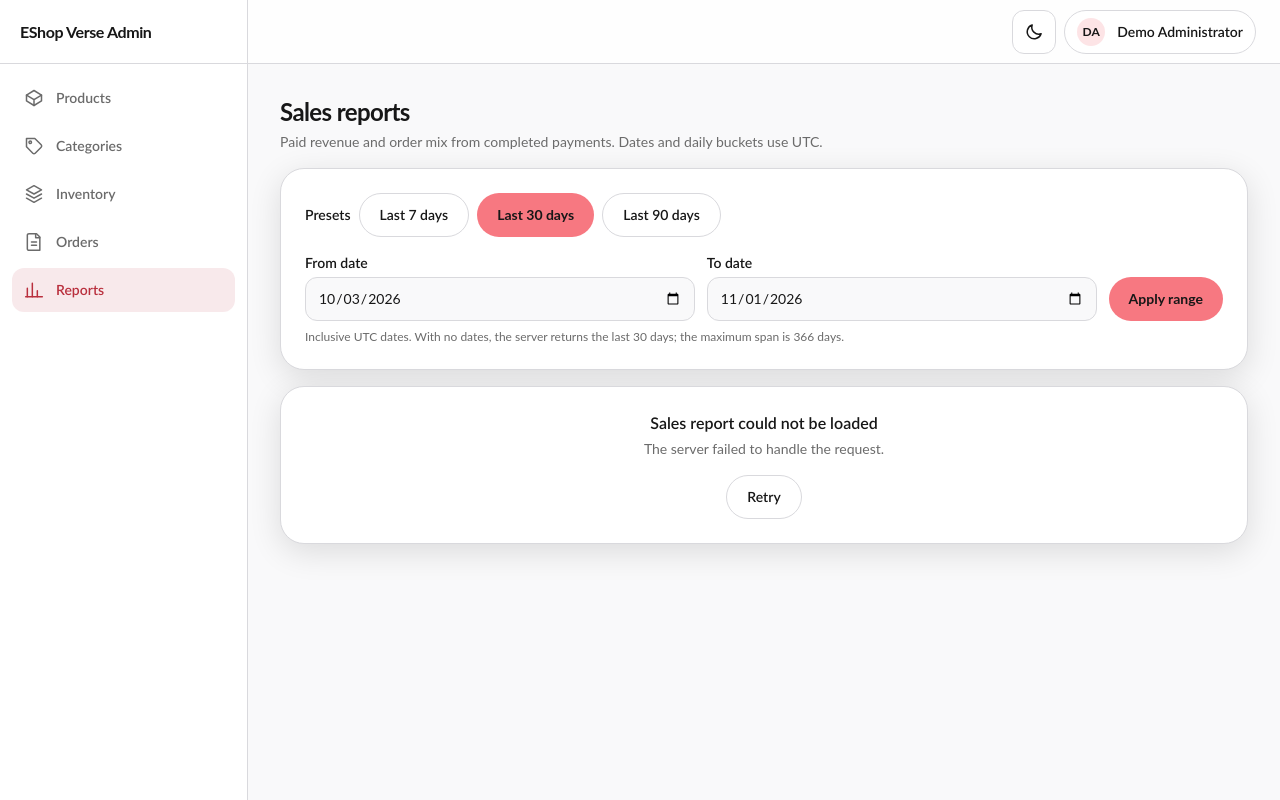
it: ReportsPage (RPT-002) › reports_error_state_retries_and_recovers
Expected: the text "Sales report could not be loaded" is shown, left=650, top=413, right=878, bottom=432
Expected: the text "The server failed to handle the request." is shown, left=644, top=440, right=884, bottom=457
Click the button "Retry": (764, 497) left=726, top=475, right=802, bottom=519
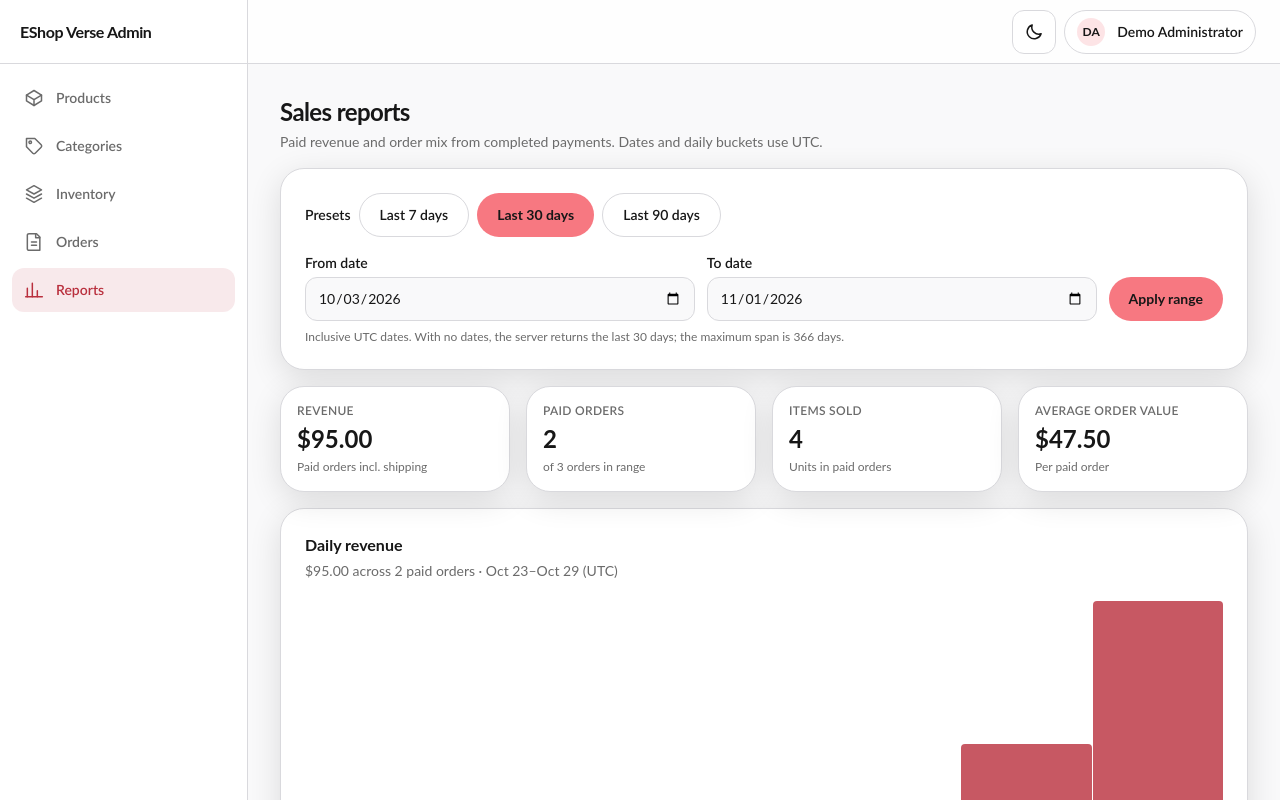
Result: the text "$95.00" is shown at left=297, top=424, right=372, bottom=453
